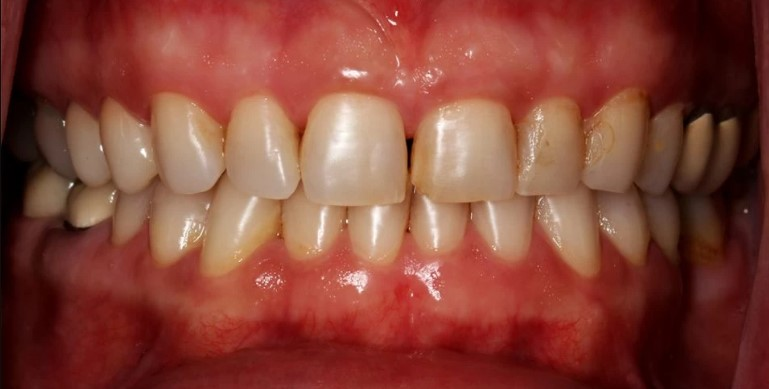LL1BC_healthy: (599, 190, 650, 270)
LL1M_mdecay: (687, 198, 729, 266)
LL2BC_healthy: (649, 192, 683, 269)
LLCI_healthy: (409, 197, 469, 257)
LLC_healthy: (533, 196, 604, 282)
LLLI_mdecay: (473, 199, 534, 263)
LR1BC_healthy: (147, 191, 204, 268)
LR1M_mdecay: (65, 182, 115, 233)
LR2BC_healthy: (110, 188, 147, 247)
LR2M_mdecay: (23, 171, 67, 225)
LRCI_healthy: (346, 204, 409, 267)
LRC_healthy: (202, 185, 280, 272)
LRLI_healthy: (279, 195, 342, 262)
UL1BC_mdecay: (648, 102, 683, 199)
UL1M_mdecay: (715, 101, 741, 194)
UL2BC_mdecay: (684, 104, 715, 196)
ULCI_healthy: (411, 98, 518, 201)
ULC_mdecay: (583, 89, 648, 194)
ULLI_mdecay: (519, 99, 584, 197)
UR1BC_healthy: (98, 100, 160, 192)
UR1M_healthy: (32, 98, 68, 179)
UR2BC_healthy: (65, 104, 115, 185)
URCI_healthy: (301, 93, 408, 204)
URC_healthy: (149, 91, 224, 197)
URLI_healthy: (225, 94, 301, 199)
